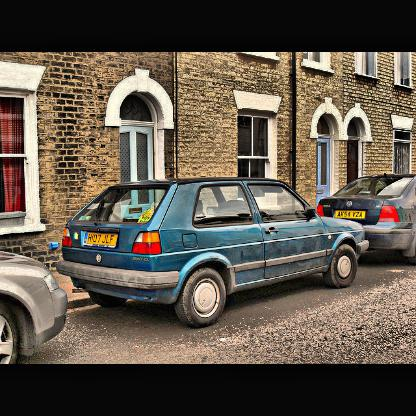Volkswagen Golf Hatchback 1991: (57, 179, 371, 329)
